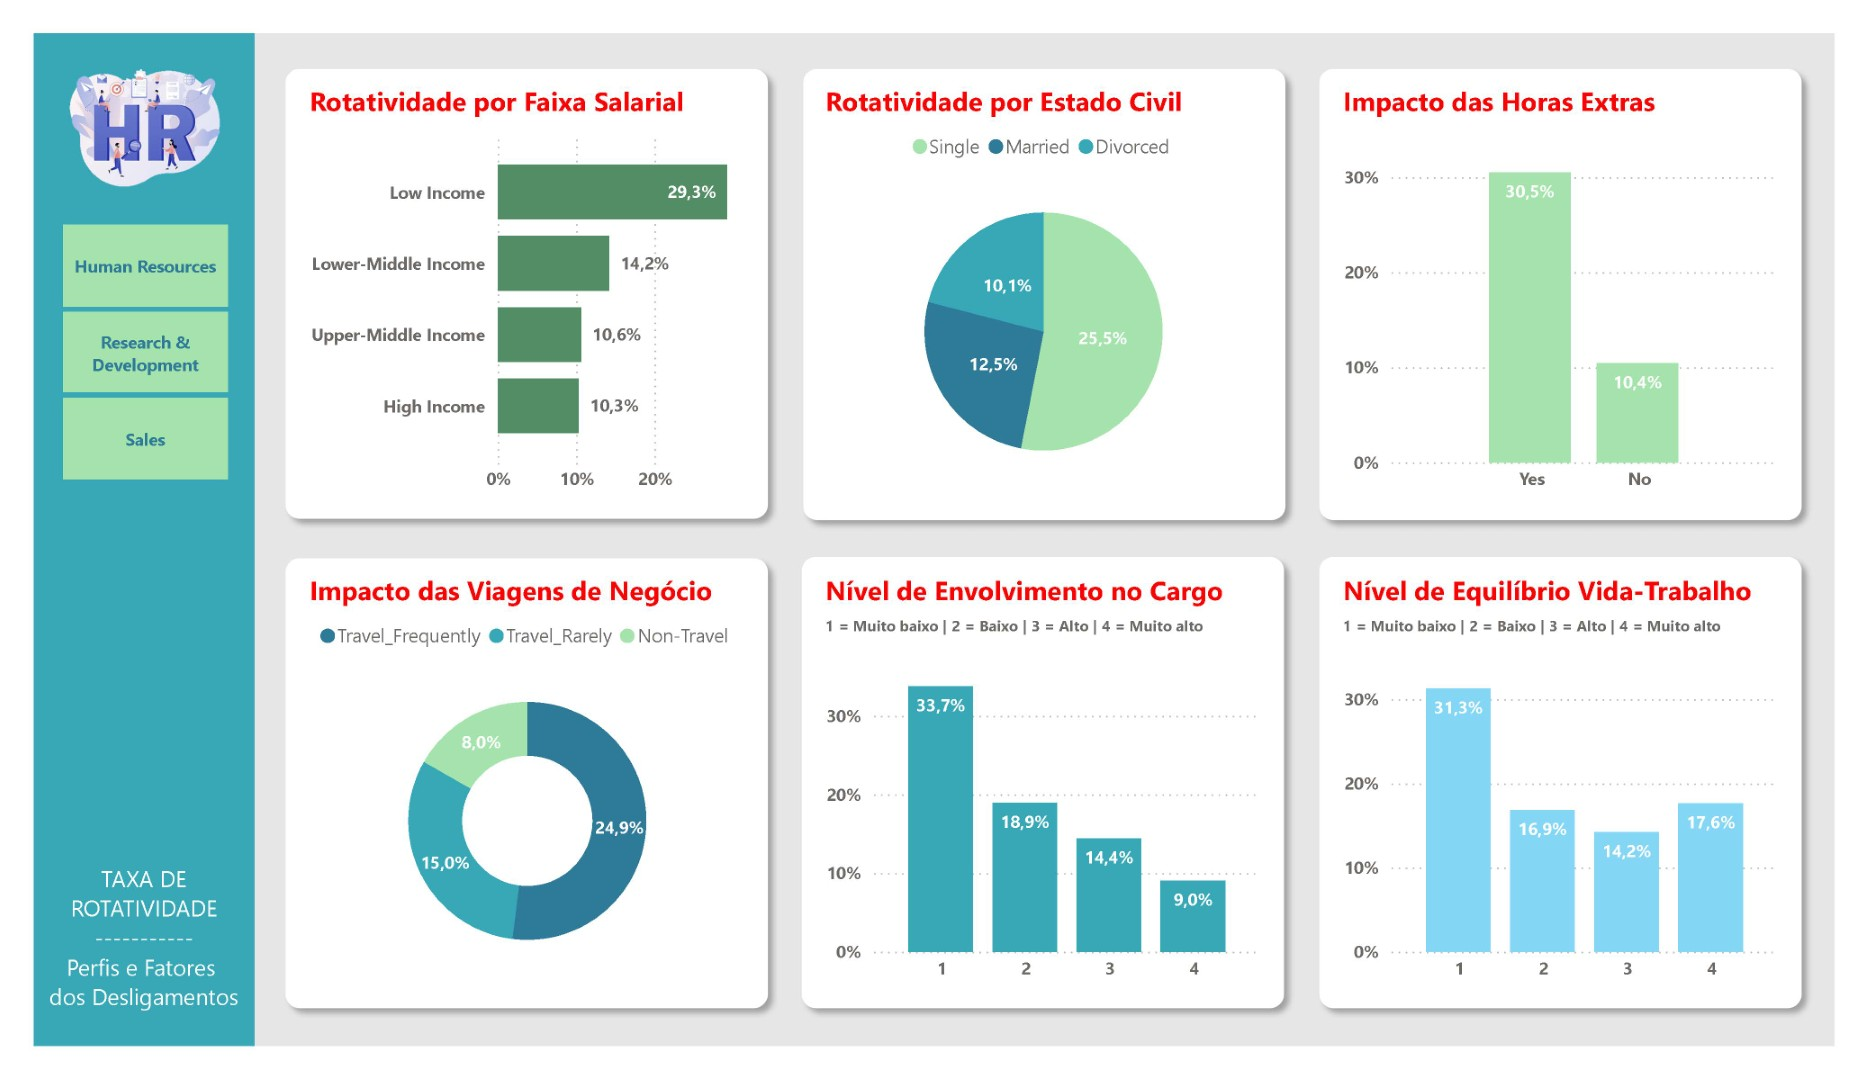

The page's visual inventory and layout, read from the dashboard file:
{"tool":"powerbi","page":{"name":"Perfis e Fatores dos Desligamentos","canvas":[1280,720],"ordinal":2},"visuals":[{"type":"shape","box":[170,16.1,360.8,338.3],"z":0},{"type":"shape","box":[0,0,156.9,720.1],"z":1000},{"type":"slicer","fields":{"Values":["HR.departamento"]},"box":[0,134,157,185],"z":2000},{"type":"textbox","box":[0,585.5,157.3,116.4],"z":3000},{"type":"image","box":[20,0,118,134],"z":4000},{"type":"shape","box":[537.7,15.7,360.9,339.1],"z":5000},{"type":"shape","box":[905.5,15.7,360.9,339.1],"z":6000},{"type":"shape","box":[170,363.6,360.9,338.2],"z":7000},{"type":"shape","box":[537.3,362.7,360.9,339.1],"z":8000},{"type":"shape","box":[905.5,362.7,360.9,339.1],"z":9000},{"type":"pieChart","title":"Rotatividade por Estado Civil","fields":{"Category":["HR.estado_civil"],"Y":["HR.Taxa de Rotatividade"]},"box":[558.2,35.5,320,300],"z":10000},{"type":"clusteredBarChart","title":"Rotatividade por Faixa Salarial","fields":{"Category":["HR.faixa_renda"],"Y":["HR.Taxa de Rotatividade"]},"box":[190.9,35.5,320,300],"z":11000},{"type":"columnChart","title":"Impacto das Horas Extras","fields":{"Category":["HR.horas_extras"],"Y":["HR.Taxa de Rotatividade"]},"box":[926.4,35.5,320,300],"z":12000},{"type":"donutChart","title":"Impacto das Viagens de Negócio","fields":{"Category":["HR.viagem_negocios"],"Y":["HR.Taxa de Rotatividade"]},"box":[190.9,382.7,320,300],"z":13000},{"type":"clusteredColumnChart","title":"Nível de Envolvimento no Cargo","fields":{"Category":["HR.envolvimento_cargo"],"Y":["HR.Taxa de Rotatividade"]},"box":[558.2,382.7,320,300],"z":14000},{"type":"clusteredColumnChart","title":"Nível de Equilíbrio Vida-Trabalho","fields":{"Y":["HR.Taxa de Rotatividade"],"Category":["HR.equilibrio_vida_trabalho"]},"box":[926.4,382.7,320,300],"z":15000}]}

Visuals, with their boxes in screenshot pixels (x1, y1, x2, y2), scaled from the page's 1280x720 canvas onto the 1868x1080 screenshot:
shape: {"x1": 248, "y1": 24, "x2": 775, "y2": 532}
shape: {"x1": 0, "y1": 0, "x2": 229, "y2": 1079}
slicer - HR.departamento: {"x1": 0, "y1": 201, "x2": 229, "y2": 478}
textbox: {"x1": 0, "y1": 878, "x2": 230, "y2": 1053}
image: {"x1": 29, "y1": 0, "x2": 201, "y2": 201}
shape: {"x1": 785, "y1": 24, "x2": 1311, "y2": 532}
shape: {"x1": 1321, "y1": 24, "x2": 1848, "y2": 532}
shape: {"x1": 248, "y1": 545, "x2": 775, "y2": 1053}
shape: {"x1": 784, "y1": 544, "x2": 1311, "y2": 1053}
shape: {"x1": 1321, "y1": 544, "x2": 1848, "y2": 1053}
"Rotatividade por Estado Civil" pieChart: {"x1": 815, "y1": 53, "x2": 1282, "y2": 503}
"Rotatividade por Faixa Salarial" clusteredBarChart: {"x1": 279, "y1": 53, "x2": 746, "y2": 503}
"Impacto das Horas Extras" columnChart: {"x1": 1352, "y1": 53, "x2": 1819, "y2": 503}
"Impacto das Viagens de Negócio" donutChart: {"x1": 279, "y1": 574, "x2": 746, "y2": 1024}
"Nível de Envolvimento no Cargo" clusteredColumnChart: {"x1": 815, "y1": 574, "x2": 1282, "y2": 1024}
"Nível de Equilíbrio Vida-Trabalho" clusteredColumnChart: {"x1": 1352, "y1": 574, "x2": 1819, "y2": 1024}
